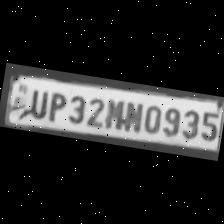0: (138, 101, 164, 135)
2: (84, 94, 108, 128)
3: (64, 92, 88, 125), (178, 105, 201, 139)
5: (197, 107, 222, 142)
9: (158, 103, 182, 137)
M: (104, 95, 124, 130)
N: (119, 99, 142, 134)
P: (44, 88, 68, 122)
U: (24, 84, 50, 119)
